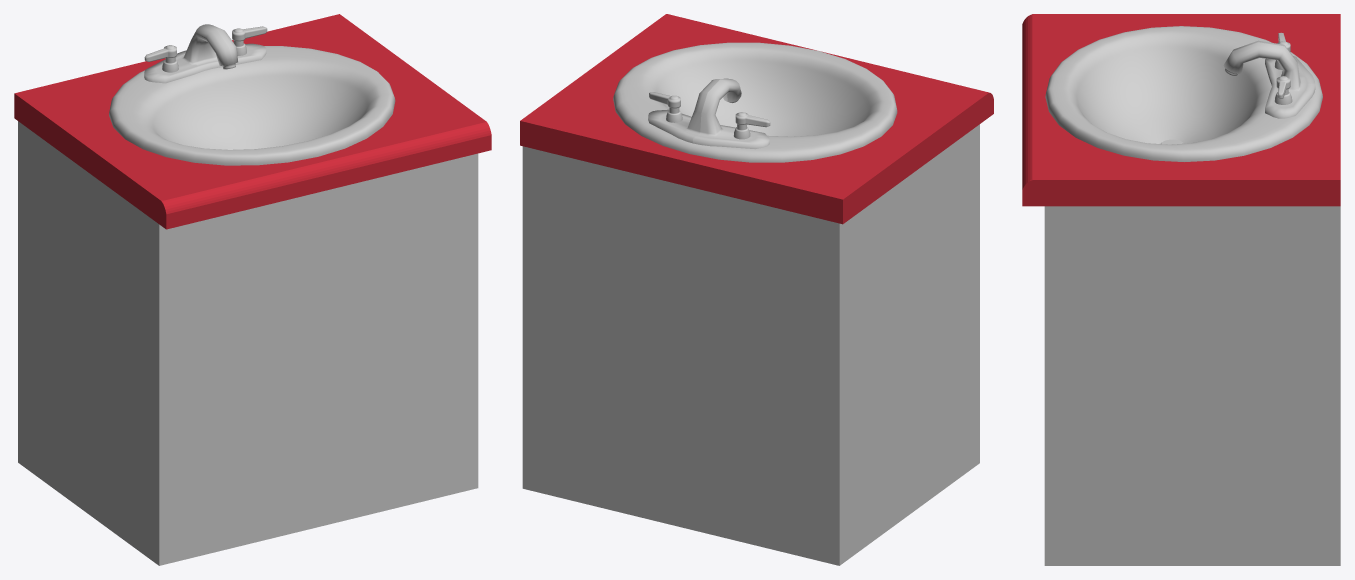
File: BathroomSink.fbx
3 renders of one model, left to right at view 1: azimuth 30°, elevation 25°; view 2: azimuth 150°, elevation 25°; view 3: azimuth 270°, elevation 25°, orthographic. The views are drawn at different scales.
Visible parts, largest first — view 1: unit, topper, bowl, metals; view 2: unit, topper, bowl, metals; view 3: unit, topper, bowl, metals.
Part boxes in pixels (x1,y1,x2,y2): unit: [18, 121, 478, 565]; topper: [14, 14, 491, 229]; bowl: [109, 46, 395, 165]; metals: [144, 24, 267, 83]; unit: [522, 124, 979, 565]; topper: [520, 14, 993, 224]; bowl: [613, 42, 897, 162]; metals: [648, 78, 770, 149]; unit: [1044, 206, 1340, 565]; topper: [1022, 14, 1340, 206]; bowl: [1045, 26, 1322, 161]; metals: [1159, 32, 1315, 144].
Size of the model in its own units: 91.11 by 113 by 73.73.
